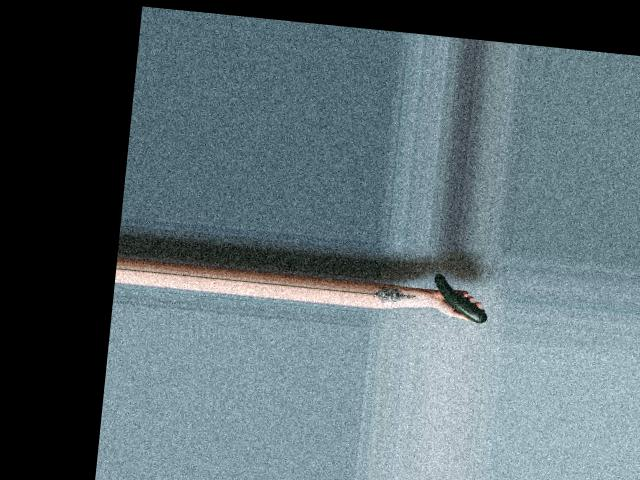cucumber: (431, 273, 491, 323)
